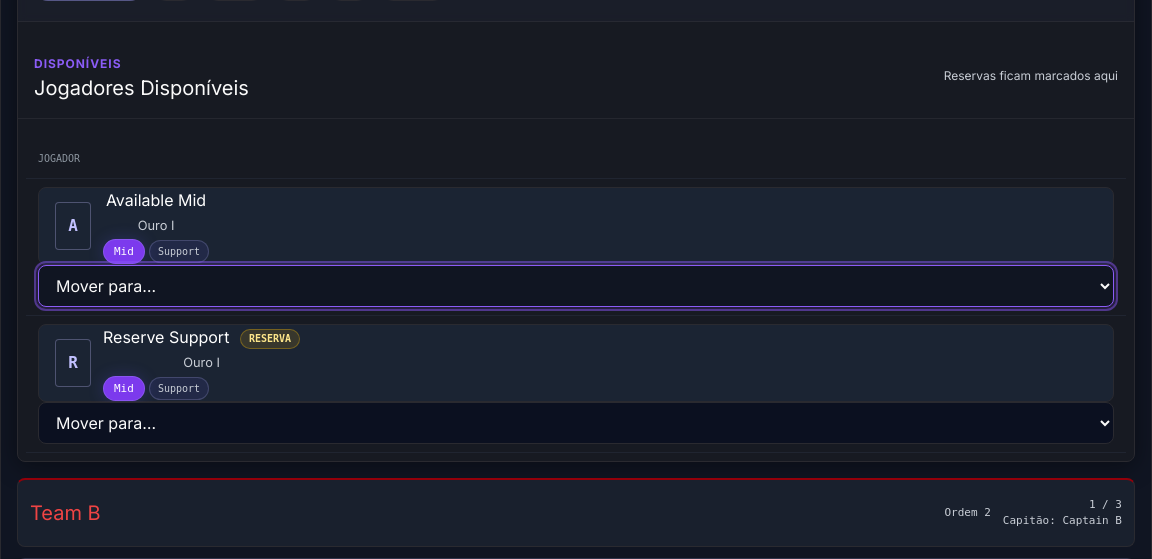
Test: DraftVisualBoard › offers a localized keyboard and touch move destination for editable players
The width and height of the screenshot is (1152, 559).
(page scrolled)
Select "Team A" in the dropdown named "Mover Available Mid para" at (576, 286), box [38, 265, 1114, 307]
(page scrolled)
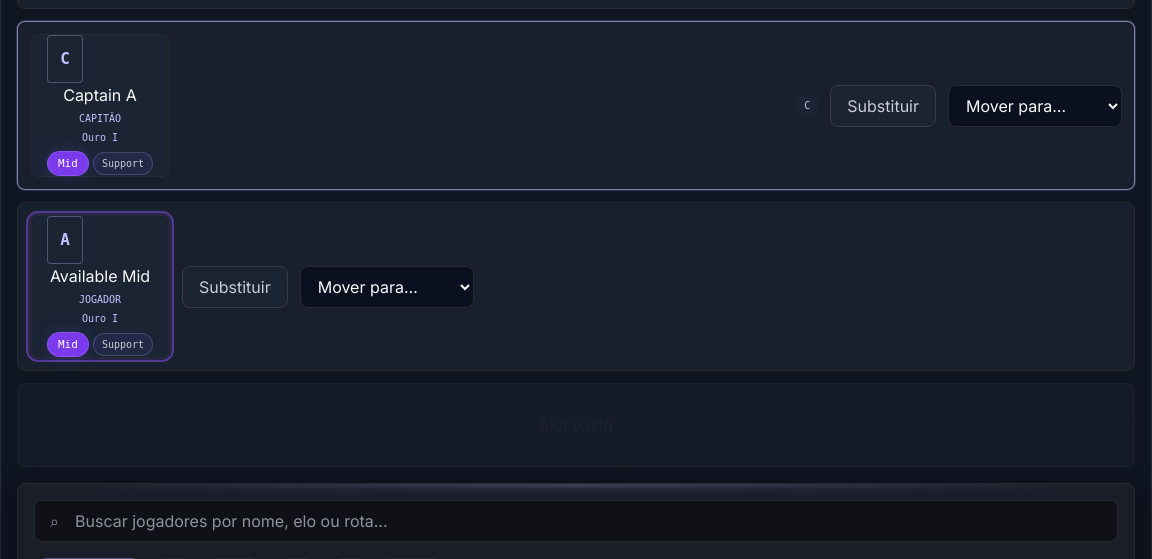
Now the list item "A Available Mid JOGADOR Ouro I Mid Support Substituir" is shown, box [17, 202, 1135, 371]
